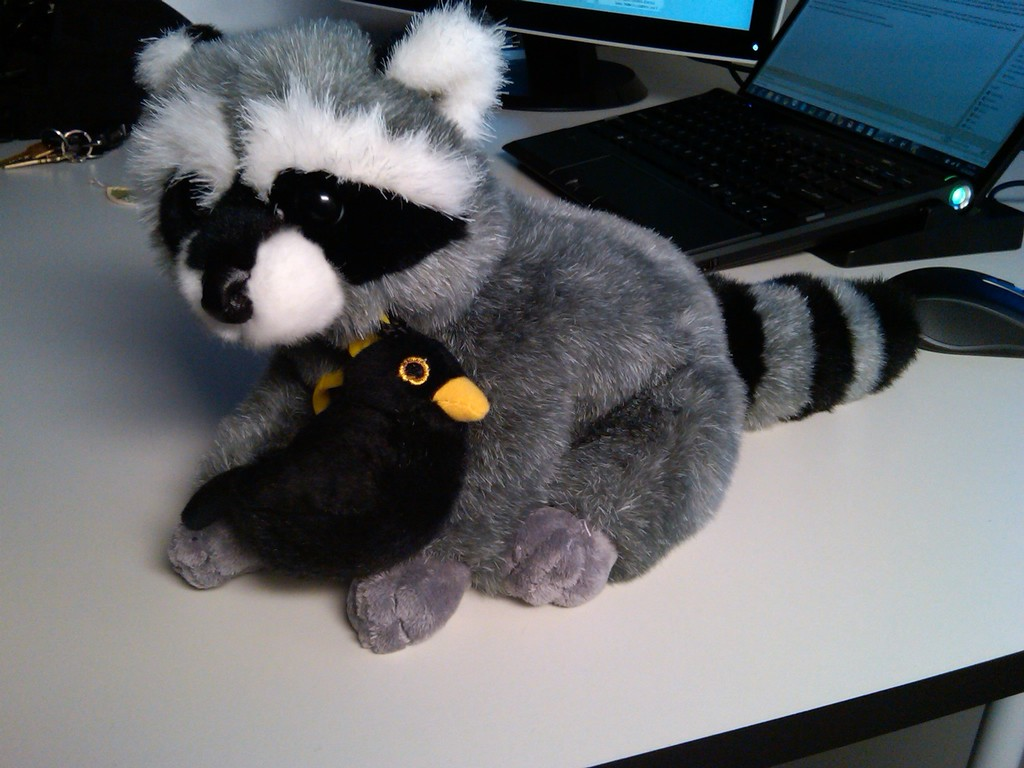raccoon: (127, 7, 918, 650)
